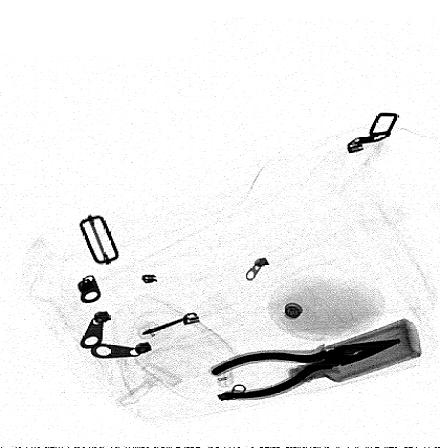Pliers: (205, 338, 404, 404)
